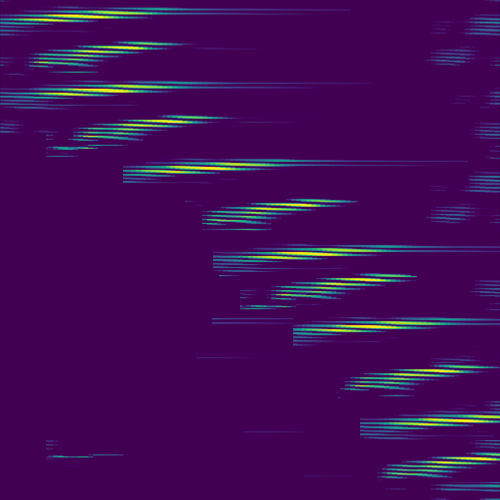semblance: (23, 38, 176, 68), (206, 197, 355, 225), (77, 112, 219, 141), (349, 363, 487, 391), (273, 271, 414, 298), (1, 5, 169, 27), (389, 449, 500, 479), (32, 81, 189, 100), (382, 410, 500, 431), (126, 160, 272, 176), (240, 247, 394, 262), (307, 319, 438, 335)
